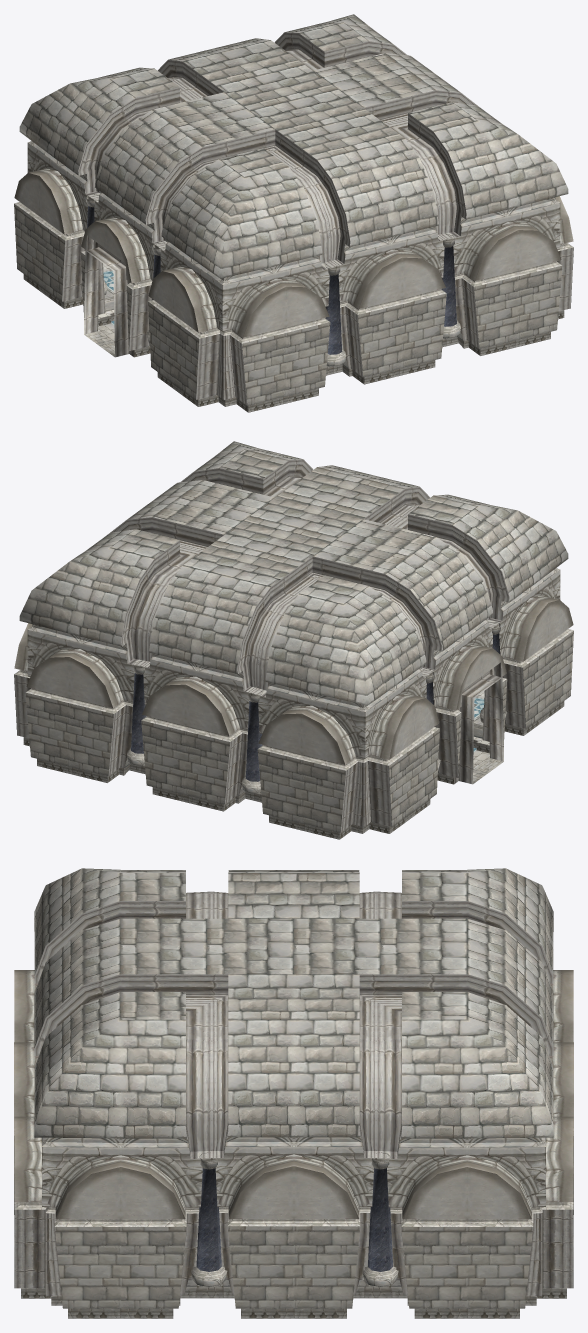
File: stormwind_160.fbx
3 views of the same model, one above another, from view 1: azimuth 30°, elevation 25°; view 2: azimuth 150°, elevation 25°; view 3: azimuth 270°, elevation 25° (orthographic). The views are drawn at different scales.
Visible parts, largest first — view 1: stormwind_160_165, stormwind_160_166, stormwind_160_168, stormwind_160_164, stormwind_160_169; view 2: stormwind_160_165, stormwind_160_166, stormwind_160_168, stormwind_160_164, stormwind_160_169; view 3: stormwind_160_165, stormwind_160_166, stormwind_160_168, stormwind_160_164, stormwind_160_169.
Boxes of the visible parts, x1,y1,x2,y2 form: stormwind_160_165: [19, 14, 568, 278]; stormwind_160_166: [14, 32, 573, 412]; stormwind_160_168: [14, 143, 573, 337]; stormwind_160_164: [14, 203, 562, 405]; stormwind_160_169: [87, 206, 456, 354]; stormwind_160_165: [19, 441, 568, 705]; stormwind_160_166: [14, 459, 573, 839]; stormwind_160_168: [14, 570, 573, 764]; stormwind_160_164: [25, 630, 573, 832]; stormwind_160_169: [131, 633, 500, 781]; stormwind_160_165: [34, 868, 553, 1138]; stormwind_160_166: [14, 891, 573, 1318]; stormwind_160_168: [14, 970, 573, 1219]; stormwind_160_164: [55, 1226, 532, 1308]; stormwind_160_169: [196, 1168, 392, 1271].
Size of the model in its own units: 40.81 by 20.27 by 40.07.
